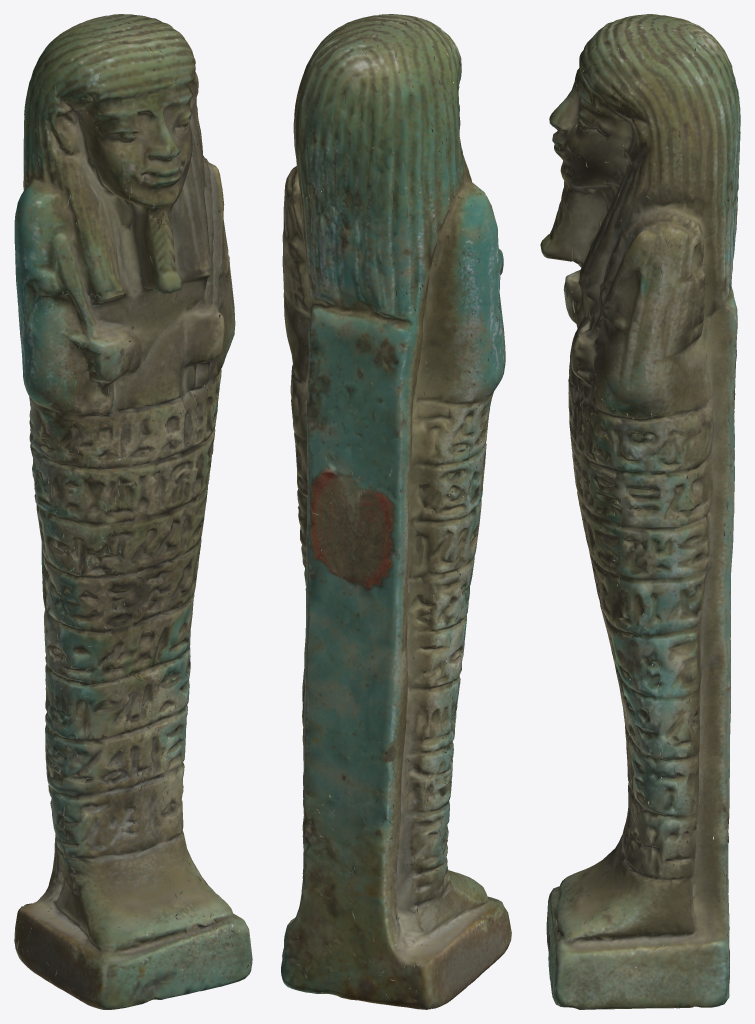
The model's file is shawabti-psamtik.glb.
3 views of the same model, side by side, from view 1: azimuth 30°, elevation 25°; view 2: azimuth 150°, elevation 25°; view 3: azimuth 270°, elevation 25° (orthographic).
Visible parts, largest first — view 1: Object_2, Object_3, Object_7, Object_6, Object_4, Object_5; view 2: Object_5, Object_4, Object_6, Object_7, Object_3, Object_2; view 3: Object_3, Object_5, Object_6, Object_2, Object_4, Object_7.
Part boxes in pixels (box(x1,y1,x2,y2)): Object_2: box(45, 192, 226, 1000); Object_3: box(28, 20, 251, 991); Object_7: box(17, 23, 231, 1001); Object_6: box(14, 14, 252, 1009); Object_4: box(14, 14, 244, 986); Object_5: box(14, 45, 252, 1008); Object_5: box(281, 88, 504, 1009); Object_4: box(282, 21, 497, 901); Object_6: box(281, 26, 511, 1008); Object_7: box(310, 15, 505, 917); Object_3: box(294, 14, 505, 942); Object_2: box(312, 141, 493, 992); Object_3: box(550, 14, 681, 995); Object_5: box(551, 59, 740, 1009); Object_6: box(546, 15, 740, 1008); Object_2: box(540, 166, 681, 983); Object_4: box(551, 15, 739, 989); Object_7: box(547, 14, 683, 982).
Bounding box in the file's own units: 41.64 × 181 × 34.72.
1 material, 1 textured.
